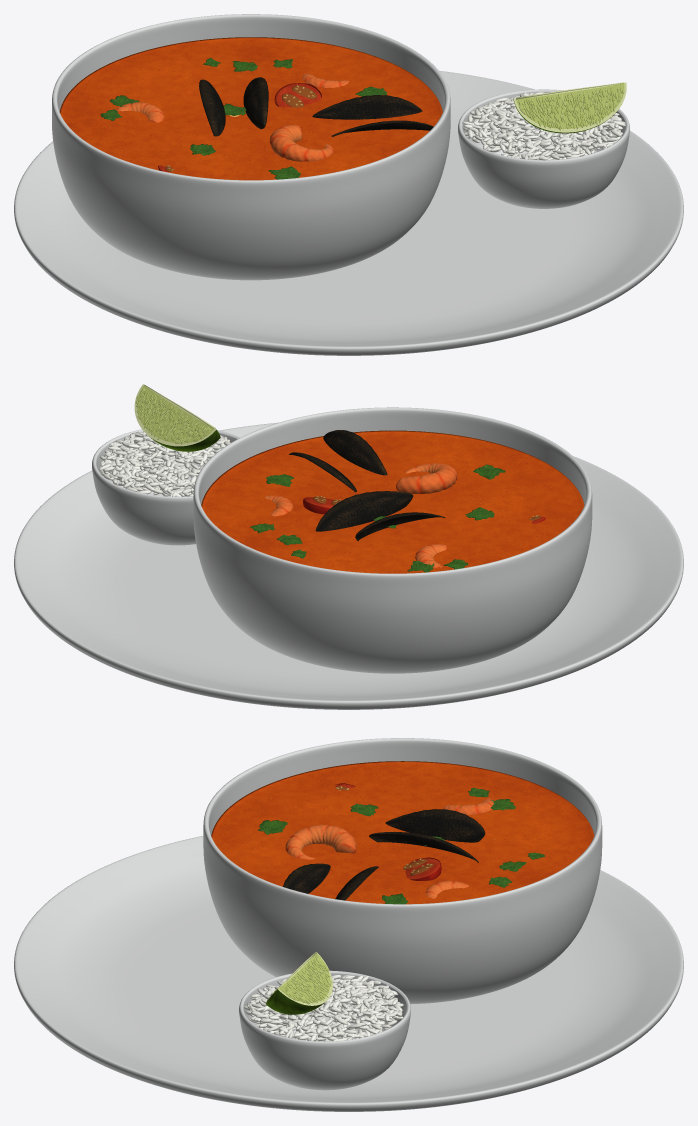
File: seafood_soup_12MB.glb
3 renders of one model, top to bottom at view 1: azimuth 30°, elevation 25°; view 2: azimuth 150°, elevation 25°; view 3: azimuth 270°, elevation 25°, orthographic.
Visible parts, largest first — view 1: Serving plate • 33.6 cm • raised edge, Main soup bowl • glazed interior and rounded foot, Soup • calm surface and physical meniscus, Small rice bowl • glazed interior, Jasmine rice • 1,050 individual grains, Lime • individual juice vesicles, Lime translucent flesh face, Mussel B • upper valve, Shrimp 01 • curled segmented flesh, Mussel A • right valve, Mussel A • left valve, Mussel B • lower valve (+2 smaller); view 2: Serving plate • 33.6 cm • raised edge, Main soup bowl • glazed interior and rounded foot, Soup • calm surface and physical meniscus, Small rice bowl • glazed interior, Jasmine rice • 1,050 individual grains, Mussel A • right valve, Lime • individual juice vesicles, Mussel B • lower valve, Lime translucent flesh face.001, Shrimp 01 • curled segmented flesh, Mussel A • left valve, Lime cut pith face.001; view 3: Serving plate • 33.6 cm • raised edge, Main soup bowl • glazed interior and rounded foot, Soup • calm surface and physical meniscus, Small rice bowl • glazed interior, Jasmine rice • 1,050 individual grains, Mussel A • left valve, Shrimp 01 • curled segmented flesh, Lime • individual juice vesicles, Mussel A • right valve, Mussel B • lower valve, Lime translucent flesh face.001, Lime outer textured rind.
Part boxes in pixels (box(x1,y1,x2,y2)): Serving plate • 33.6 cm • raised edge: box(14, 70, 683, 355); Main soup bowl • glazed interior and rounded foot: box(52, 14, 450, 280); Soup • calm surface and physical meniscus: box(59, 37, 442, 180); Small rice bowl • glazed interior: box(458, 89, 629, 208); Jasmine rice • 1,050 individual grains: box(462, 92, 625, 160); Lime • individual juice vesicles: box(518, 86, 624, 130); Lime translucent flesh face: box(516, 83, 624, 128); Mussel B • upper valve: box(312, 95, 422, 119); Shrimp 01 • curled segmented flesh: box(269, 125, 333, 161); Mussel A • right valve: box(243, 77, 268, 129); Mussel A • left valve: box(199, 79, 225, 136); Mussel B • lower valve: box(331, 120, 433, 136); Serving plate • 33.6 cm • raised edge: box(14, 422, 683, 709); Main soup bowl • glazed interior and rounded foot: box(193, 407, 592, 673); Soup • calm surface and physical meniscus: box(201, 430, 584, 573); Small rice bowl • glazed interior: box(92, 429, 240, 545); Jasmine rice • 1,050 individual grains: box(99, 431, 230, 496); Mussel A • right valve: box(315, 491, 413, 531); Lime • individual juice vesicles: box(136, 388, 211, 444); Mussel B • lower valve: box(323, 430, 387, 475); Lime translucent flesh face.001: box(137, 385, 213, 443); Shrimp 01 • curled segmented flesh: box(396, 463, 457, 493); Mussel A • left valve: box(355, 512, 445, 540); Lime cut pith face.001: box(134, 384, 215, 446); Serving plate • 33.6 cm • raised edge: box(14, 836, 683, 1111); Main soup bowl • glazed interior and rounded foot: box(203, 738, 602, 1004); Soup • calm surface and physical meniscus: box(211, 761, 594, 904); Small rice bowl • glazed interior: box(239, 970, 410, 1090); Jasmine rice • 1,050 individual grains: box(244, 975, 403, 1041); Mussel A • left valve: box(385, 809, 485, 842); Shrimp 01 • curled segmented flesh: box(285, 824, 356, 859); Lime • individual juice vesicles: box(266, 955, 331, 1004); Mussel A • right valve: box(369, 831, 478, 862); Mussel B • lower valve: box(283, 863, 330, 893); Lime translucent flesh face.001: box(279, 953, 330, 1002); Lime outer textured rind: box(266, 989, 324, 1014).
Size of the model in its own units: 0.3361 by 0.077 by 0.3361.
Materials: 27 (7 with a texture image).
